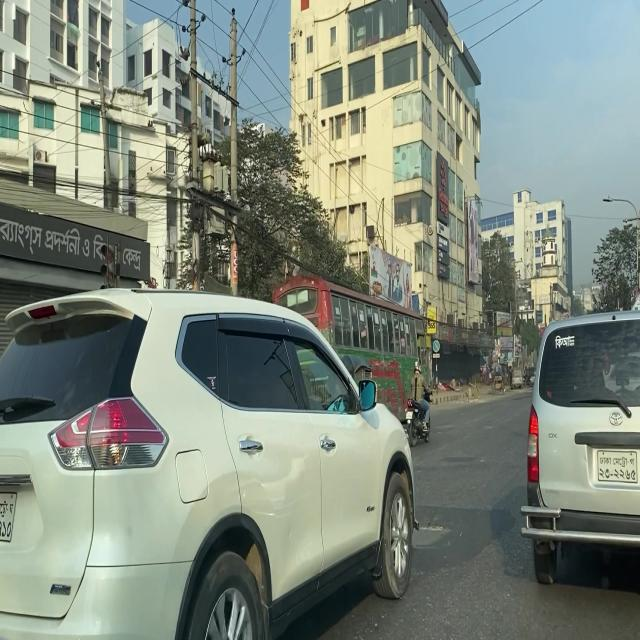car: (0, 286, 421, 640), (519, 307, 640, 594)
motorbike: (405, 382, 436, 448)
